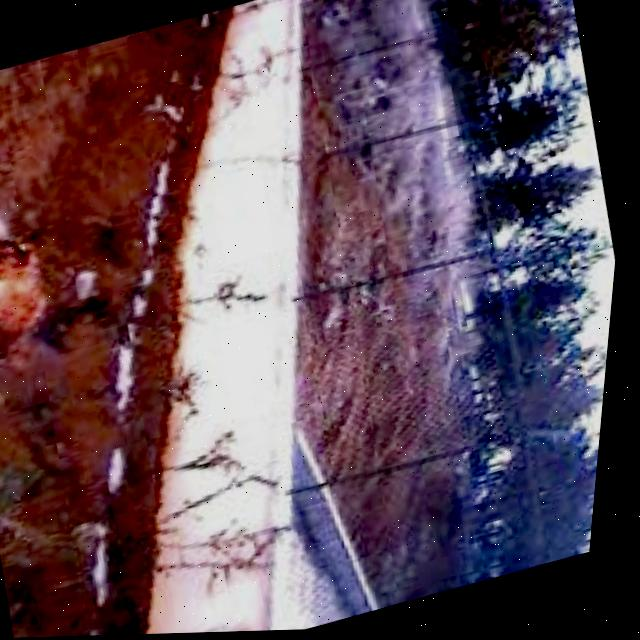Fire: (0, 188, 80, 377)
